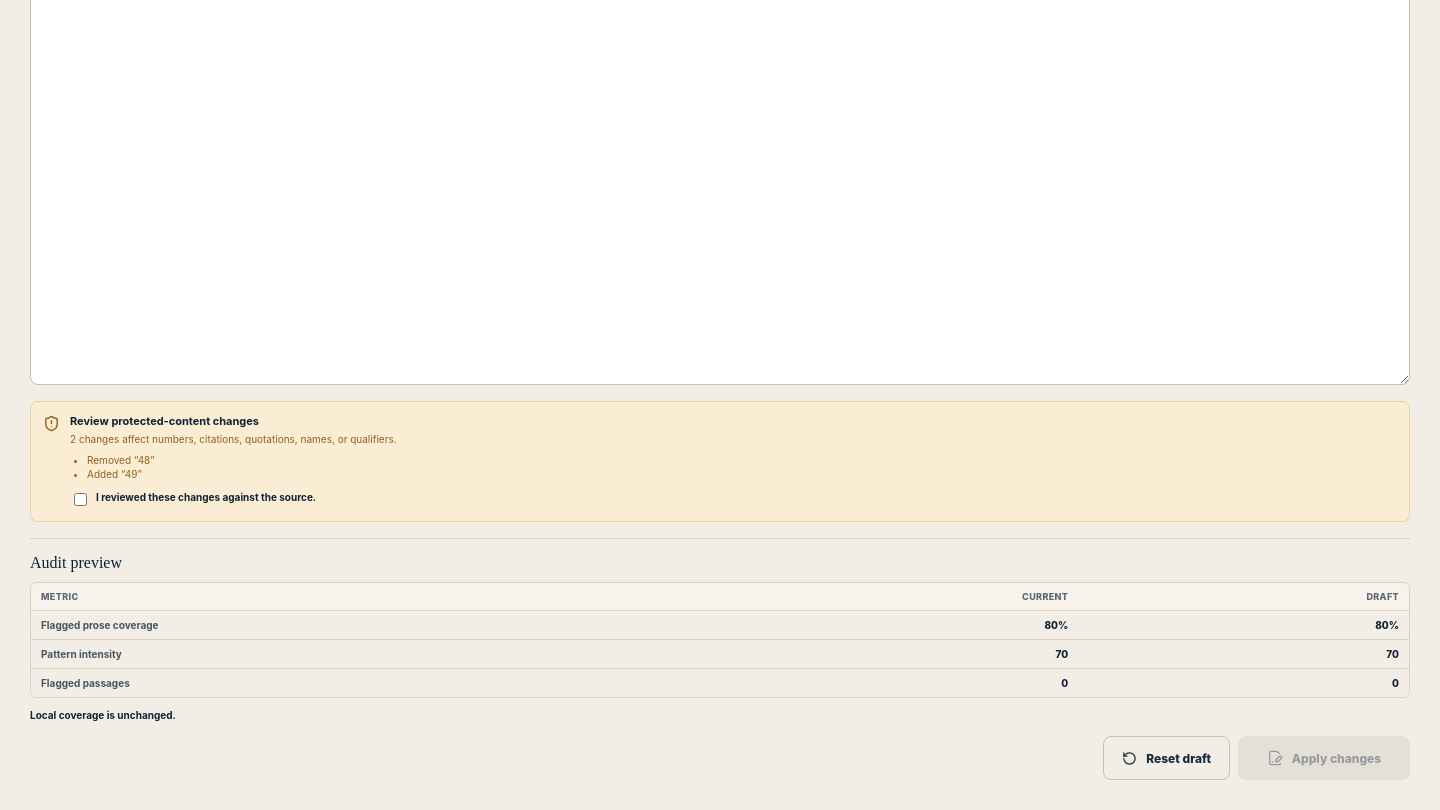
Test case: RevisionLab › requires acknowledgement when protected facts change
(page scrolled)
Expected: the text "Review protected-content changes" is shown, [70,414,259,428]
Expected: the button "Apply changes" is disabled, [1238,736,1410,780]
Click the checkbox labelled "I reviewed these changes against the source." at (80, 499), box [74,493,87,506]
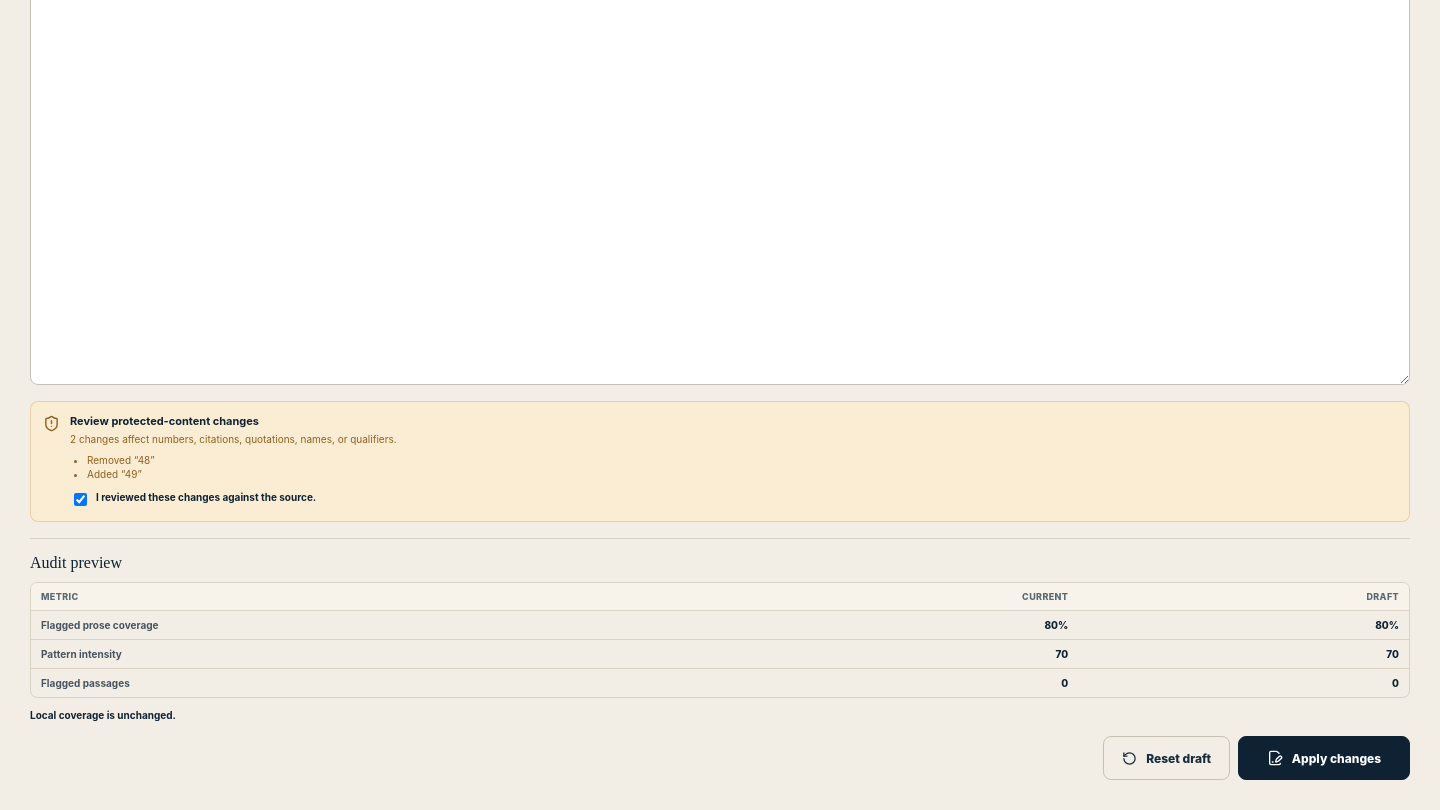
Result: the button "Apply changes" is enabled at [1238,736,1410,780]
